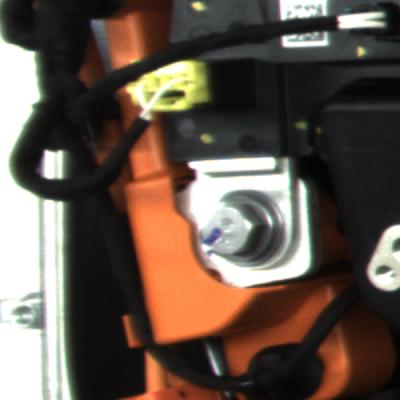nut_b: (186, 180, 282, 270)
